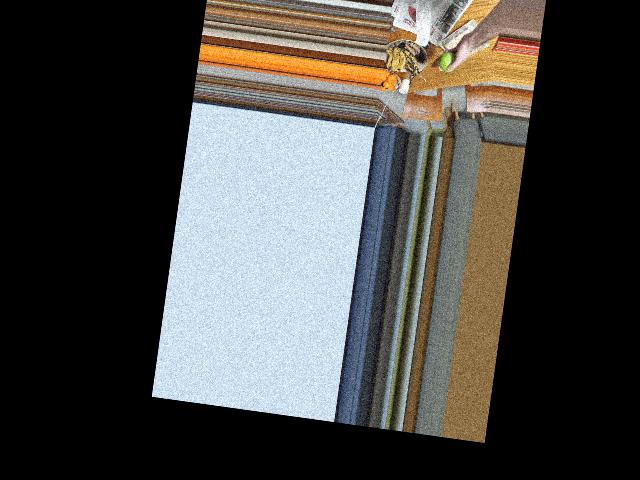apple: (437, 48, 460, 74)
